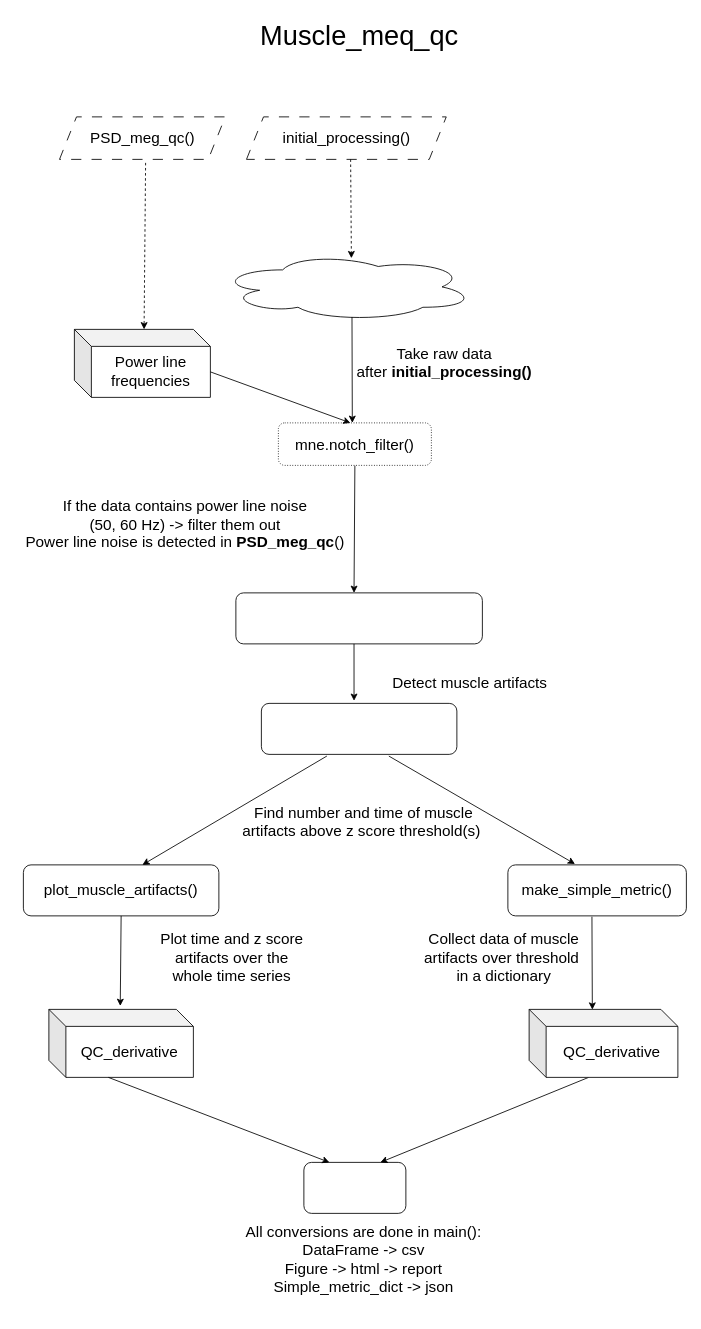
Image size: 701x1329. Some labels were removed from this diagram. Each missing label, with the centre of its shape:
"find_peaks()" goes at pixel 359 728.
"main()" goes at pixel 354 1187.
"mne . preprocessing. annotate_muscle_zscore()" goes at pixel 358 618.
"Raw data" goes at pixel 346 286.
